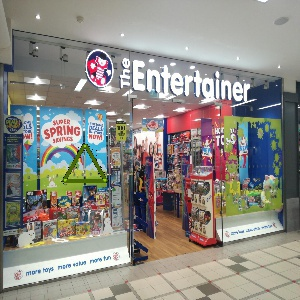triangle: (59, 141, 111, 187)
